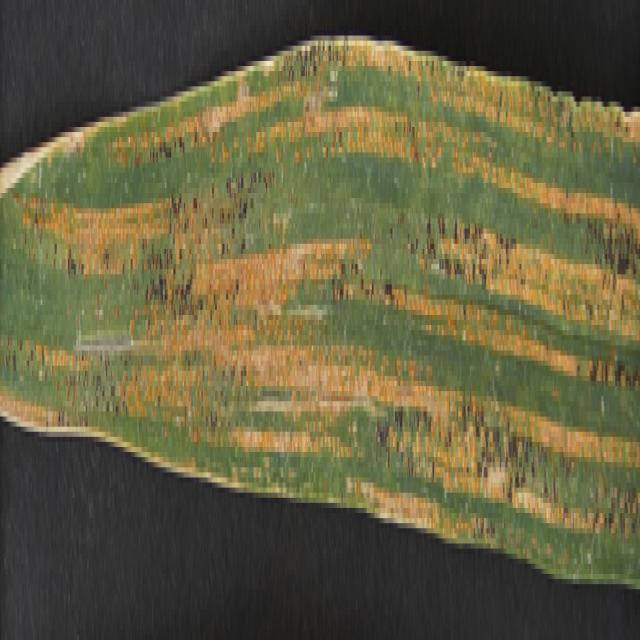leaf rust: (9, 36, 638, 528)
